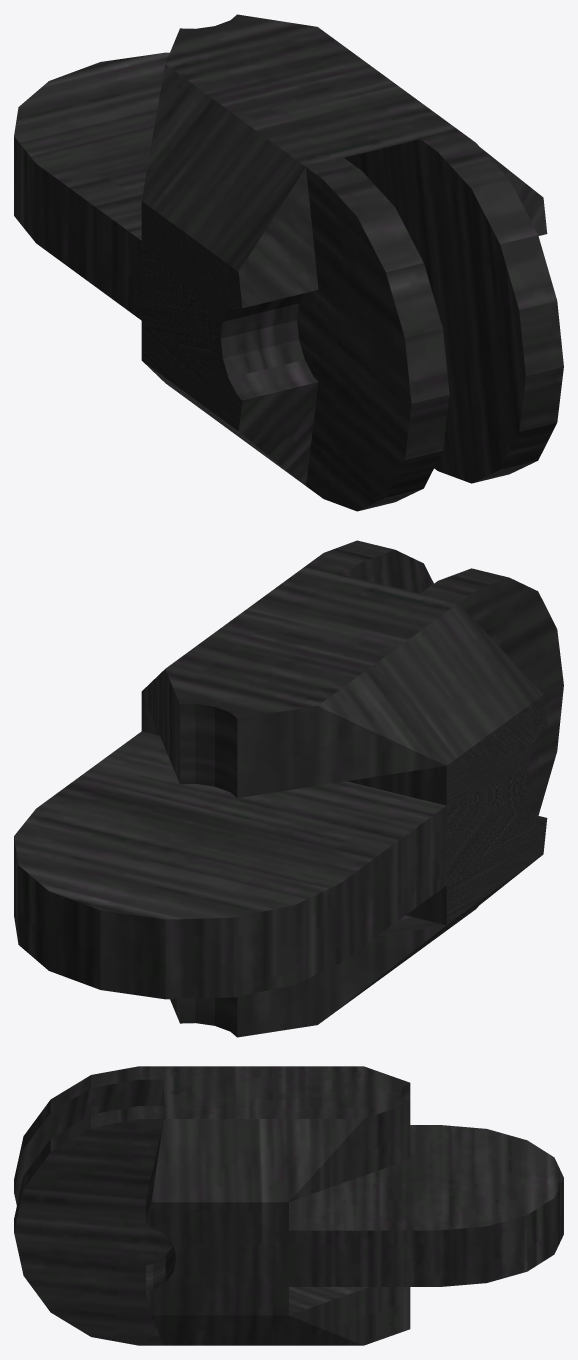
The model's file is trochanter.dae.
The picture shows the model from 3 angles, top to bottom: view 1: azimuth 30°, elevation 25°; view 2: azimuth 150°, elevation 25°; view 3: azimuth 270°, elevation 25°; orthographic projection. The views are drawn at different scales.
Visible parts, largest first — view 1: Trochanter; view 2: Trochanter; view 3: Trochanter.
Part boxes in pixels (x1,y1,x2,y2): Trochanter: [14, 14, 563, 511]; Trochanter: [14, 540, 563, 1037]; Trochanter: [14, 1066, 563, 1345].
Bounding box in the file's own units: 0.2 × 0.44 × 0.2.
1 material, 1 textured.
